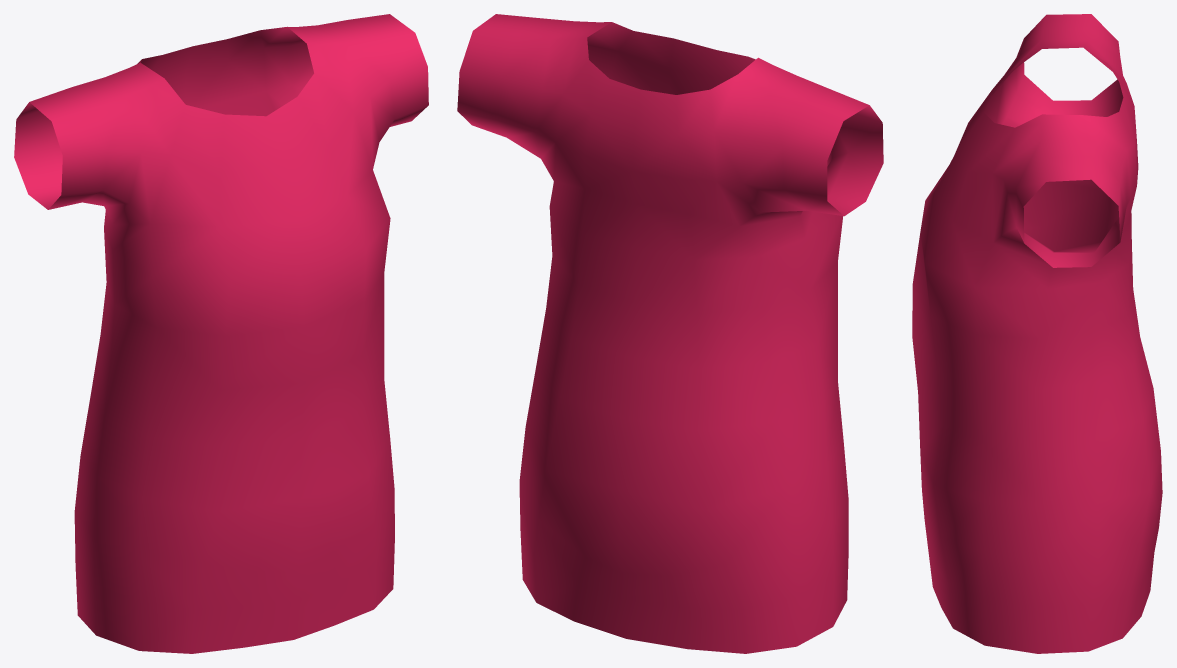
File: Outerwear_Pink_007.glb
The picture shows the model from 3 angles, left to right: view 1: azimuth 30°, elevation 25°; view 2: azimuth 150°, elevation 25°; view 3: azimuth 270°, elevation 25°; orthographic projection. The views are drawn at different scales.
Visible parts, largest first — view 1: Outerwear_Pink_007; view 2: Outerwear_Pink_007; view 3: Outerwear_Pink_007.
Part boxes in pixels (<box>): Outerwear_Pink_007: <box>14,14,428,653</box>; Outerwear_Pink_007: <box>457,14,883,653</box>; Outerwear_Pink_007: <box>912,14,1162,653</box>.
Bounding box in the file's own units: 0.6011 × 0.8466 × 0.3763.
Materials: 1 (1 with a texture image).
